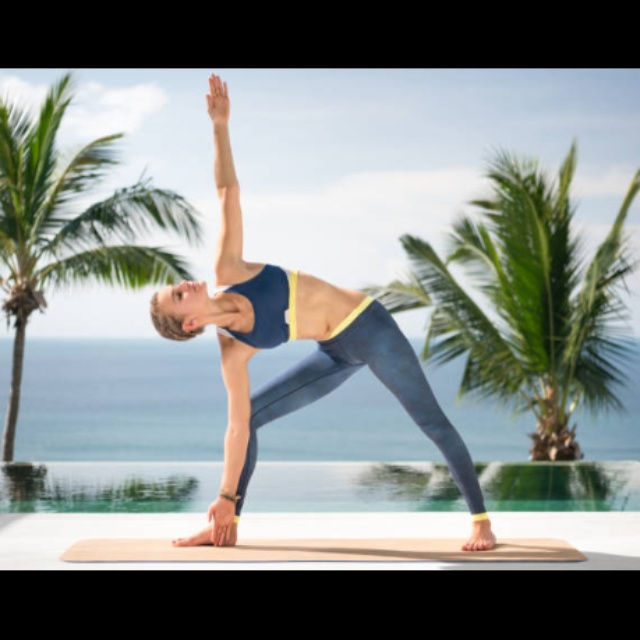Triangle_Pose: (129, 67, 511, 555)
